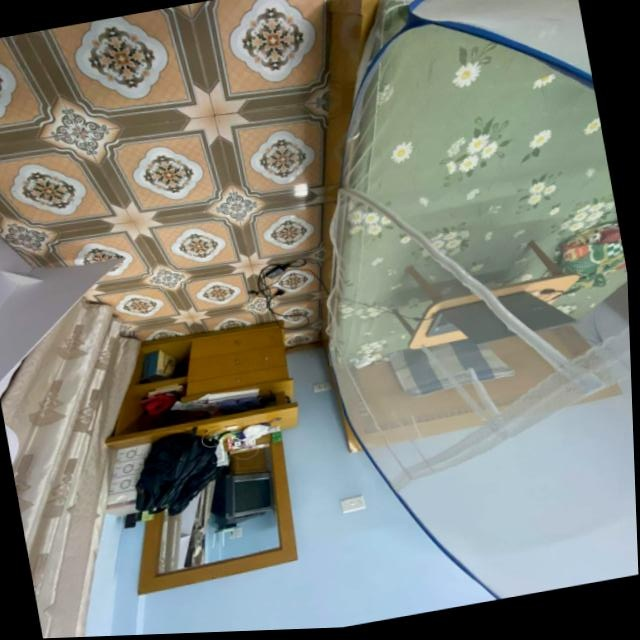outlet: (307, 376, 337, 395)
